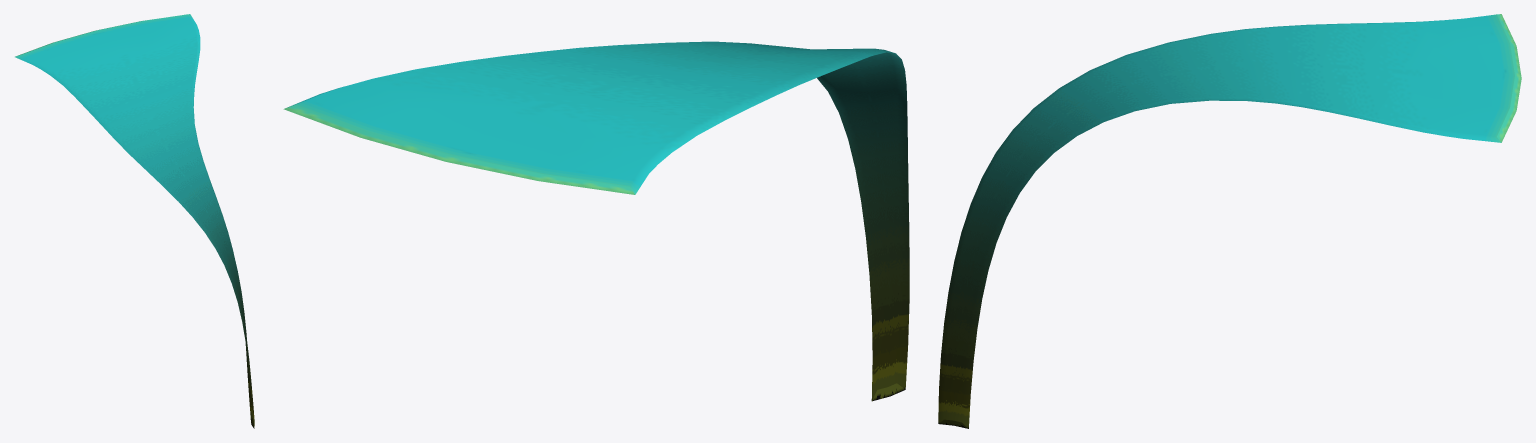
Rendered from ha_h__player_slice.glb.
3 renders of one model, left to right at view 1: azimuth 30°, elevation 25°; view 2: azimuth 150°, elevation 25°; view 3: azimuth 270°, elevation 25°, orthographic. The views are drawn at different scales.
Visible parts, largest first — view 1: Object_2; view 2: Object_2; view 3: Object_2.
Boxes of the visible parts, x1,y1,x2,y2 form: Object_2: [15, 14, 254, 428]; Object_2: [283, 41, 909, 401]; Object_2: [938, 14, 1521, 428].
Bounding box in the file's own units: 76.97 × 104 × 147.
1 material, 1 textured.
